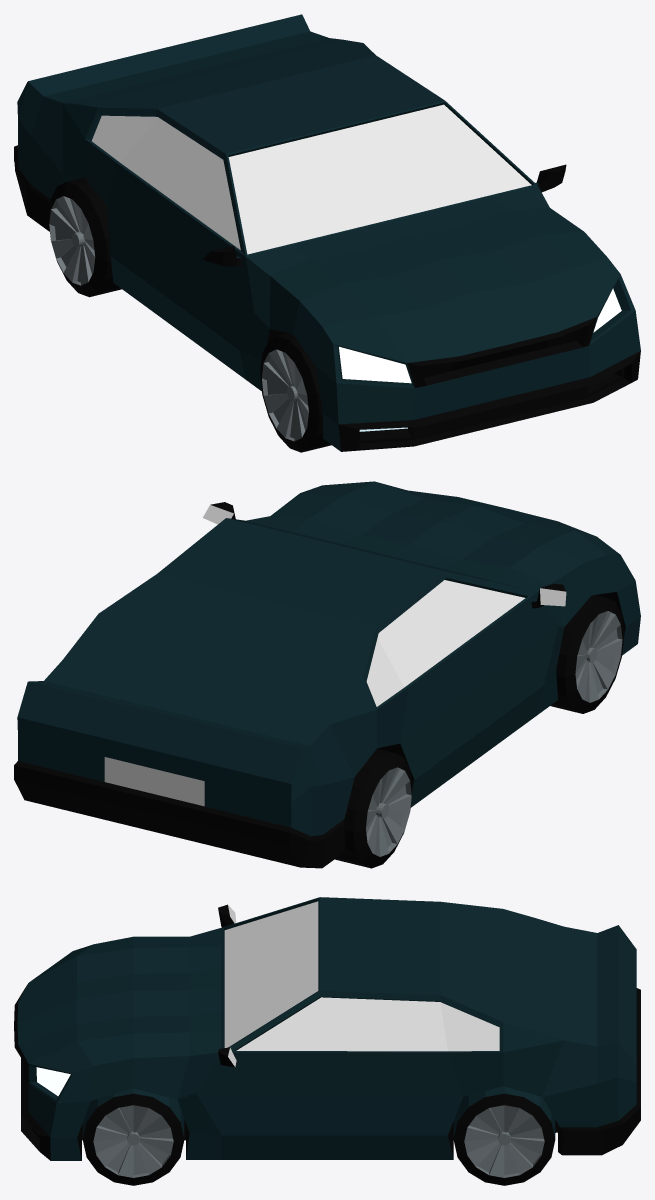
Rendered from car_2.glb.
3 renders of one model, top to bottom at view 1: azimuth 30°, elevation 25°; view 2: azimuth 150°, elevation 25°; view 3: azimuth 270°, elevation 25°, orthographic. The views are drawn at different scales.
Parts seen in each view (by area): view 1: Low Poly Sports Car_0, Low Poly Sports Car.003_12, Low Poly Sports Car.001_6; view 2: Low Poly Sports Car_0, Low Poly Sports Car.003_12, Low Poly Sports Car.001_6; view 3: Low Poly Sports Car_0, Low Poly Sports Car.004_9, Low Poly Sports Car.002_3.
Boxes of the visible parts, x1,y1,x2,y2 form: Low Poly Sports Car_0: (14, 14, 640, 451); Low Poly Sports Car.003_12: (48, 177, 121, 297); Low Poly Sports Car.001_6: (260, 333, 331, 452); Low Poly Sports Car_0: (14, 481, 640, 868); Low Poly Sports Car.003_12: (335, 749, 412, 868); Low Poly Sports Car.001_6: (550, 595, 624, 713); Low Poly Sports Car_0: (14, 897, 640, 1160); Low Poly Sports Car.004_9: (453, 1086, 555, 1185); Low Poly Sports Car.002_3: (82, 1088, 184, 1185).
Bounding box in the file's own units: 2.6 × 1.41 × 4.46.
